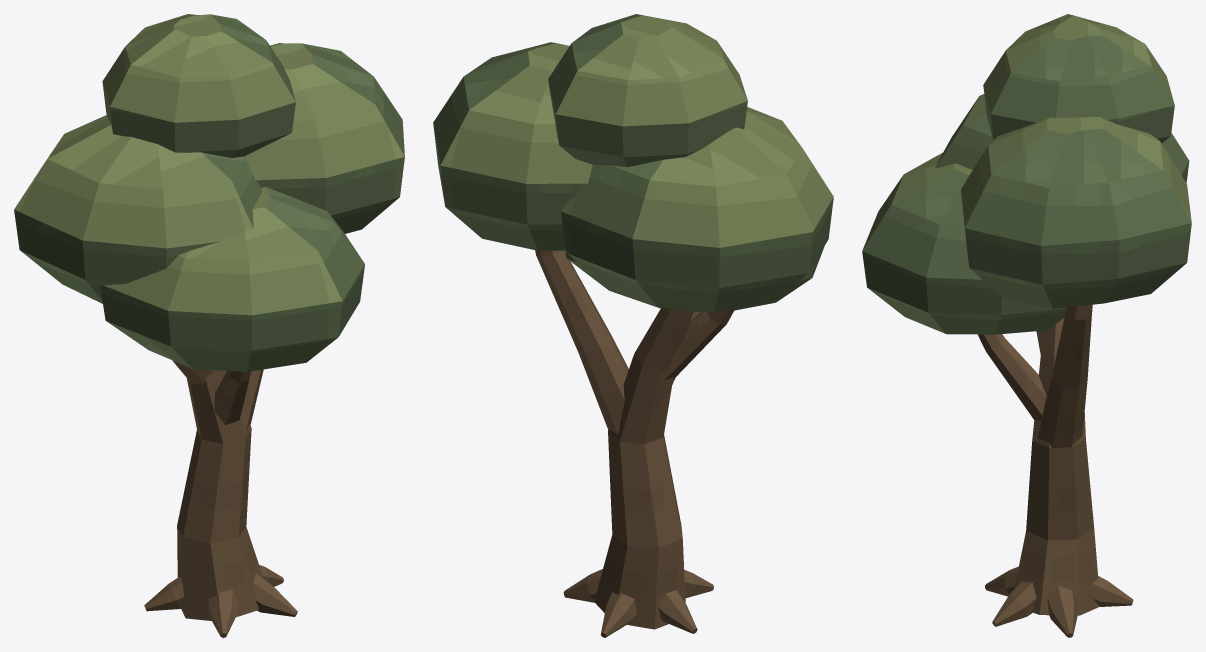
File: tree.glb
The picture shows the model from 3 angles, left to right: view 1: azimuth 30°, elevation 25°; view 2: azimuth 150°, elevation 25°; view 3: azimuth 270°, elevation 25°; orthographic projection. The views are drawn at different scales.
Visible parts, largest first — view 1: west-crown-leaf_light, front-crown-leaf, upper-crown-leaf_light, crooked-main-trunk, front-crown-leaf_light, east-crown-leaf_light, west-crown-leaf, east-crown-leaf, upper-crown-leaf, front-bough, buttress-root.004, buttress-root.003 (+2 smaller); view 2: west-crown-leaf, west-crown-leaf_light, crooked-main-trunk, upper-crown-leaf_light, east-crown-leaf, east-crown-leaf_light, upper-crown-leaf, east-fork, west-fork, buttress-root.001, buttress-root.002, front-crown-leaf (+1 smaller); view 3: east-crown-leaf, front-crown-leaf, upper-crown-leaf, crooked-main-trunk, east-crown-leaf_light, east-fork, upper-crown-leaf_light, front-bough, west-crown-leaf, front-crown-leaf_light, buttress-root.004, buttress-root (+3 smaller).
Part boxes in pixels (x1=…): west-crown-leaf_light: x1=14, y1=115, x2=253, y2=248; front-crown-leaf: x1=100, y1=186, x2=364, y2=371; upper-crown-leaf_light: x1=102, y1=14, x2=295, y2=122; crooked-main-trunk: x1=177, y1=370, x2=263, y2=620; front-crown-leaf_light: x1=103, y1=186, x2=342, y2=315; east-crown-leaf_light: x1=245, y1=43, x2=404, y2=180; west-crown-leaf: x1=14, y1=152, x2=261, y2=303; east-crown-leaf: x1=256, y1=43, x2=404, y2=233; upper-crown-leaf: x1=102, y1=14, x2=295, y2=158; front-bough: x1=214, y1=371, x2=251, y2=424; buttress-root.004: x1=253, y1=573, x2=297, y2=616; buttress-root.003: x1=208, y1=589, x2=239, y2=637; west-crown-leaf: x1=561, y1=159, x2=833, y2=312; west-crown-leaf_light: x1=633, y1=107, x2=833, y2=247; crooked-main-trunk: x1=594, y1=307, x2=693, y2=629; upper-crown-leaf_light: x1=556, y1=14, x2=747, y2=126; east-crown-leaf: x1=433, y1=42, x2=587, y2=250; east-crown-leaf_light: x1=440, y1=43, x2=592, y2=183; upper-crown-leaf: x1=548, y1=14, x2=747, y2=167; east-fork: x1=535, y1=250, x2=628, y2=433; west-fork: x1=664, y1=308, x2=734, y2=379; buttress-root.001: x1=601, y1=592, x2=636, y2=637; buttress-root.002: x1=658, y1=590, x2=697, y2=633; front-crown-leaf: x1=565, y1=246, x2=824, y2=312; east-crown-leaf: x1=965, y1=128, x2=1191, y2=308; front-crown-leaf: x1=862, y1=169, x2=1066, y2=334; upper-crown-leaf: x1=983, y1=35, x2=1174, y2=143; crooked-main-trunk: x1=1014, y1=317, x2=1099, y2=615; east-crown-leaf_light: x1=961, y1=116, x2=1191, y2=227; east-fork: x1=1037, y1=304, x2=1092, y2=448; upper-crown-leaf_light: x1=983, y1=14, x2=1174, y2=113; front-bough: x1=977, y1=334, x2=1046, y2=420; west-crown-leaf: x1=935, y1=112, x2=1189, y2=182; front-crown-leaf_light: x1=863, y1=152, x2=972, y2=249; buttress-root.004: x1=992, y1=581, x2=1036, y2=626; buttress-root: x1=1047, y1=585, x2=1078, y2=637.
Bounding box in the file's own units: 2.22 × 3.42 × 1.78.
Materials: 1 (1 with a texture image).
